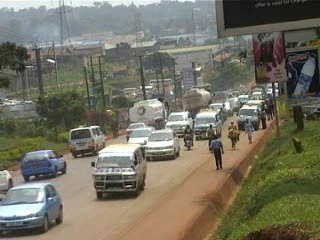Car: (0, 184, 68, 234), (17, 144, 70, 180), (140, 128, 183, 163), (159, 106, 194, 135), (125, 127, 157, 153), (121, 119, 145, 143), (0, 162, 17, 193), (205, 99, 225, 119), (217, 98, 235, 119)
Motorcycle: (181, 125, 197, 150), (218, 104, 229, 124)
